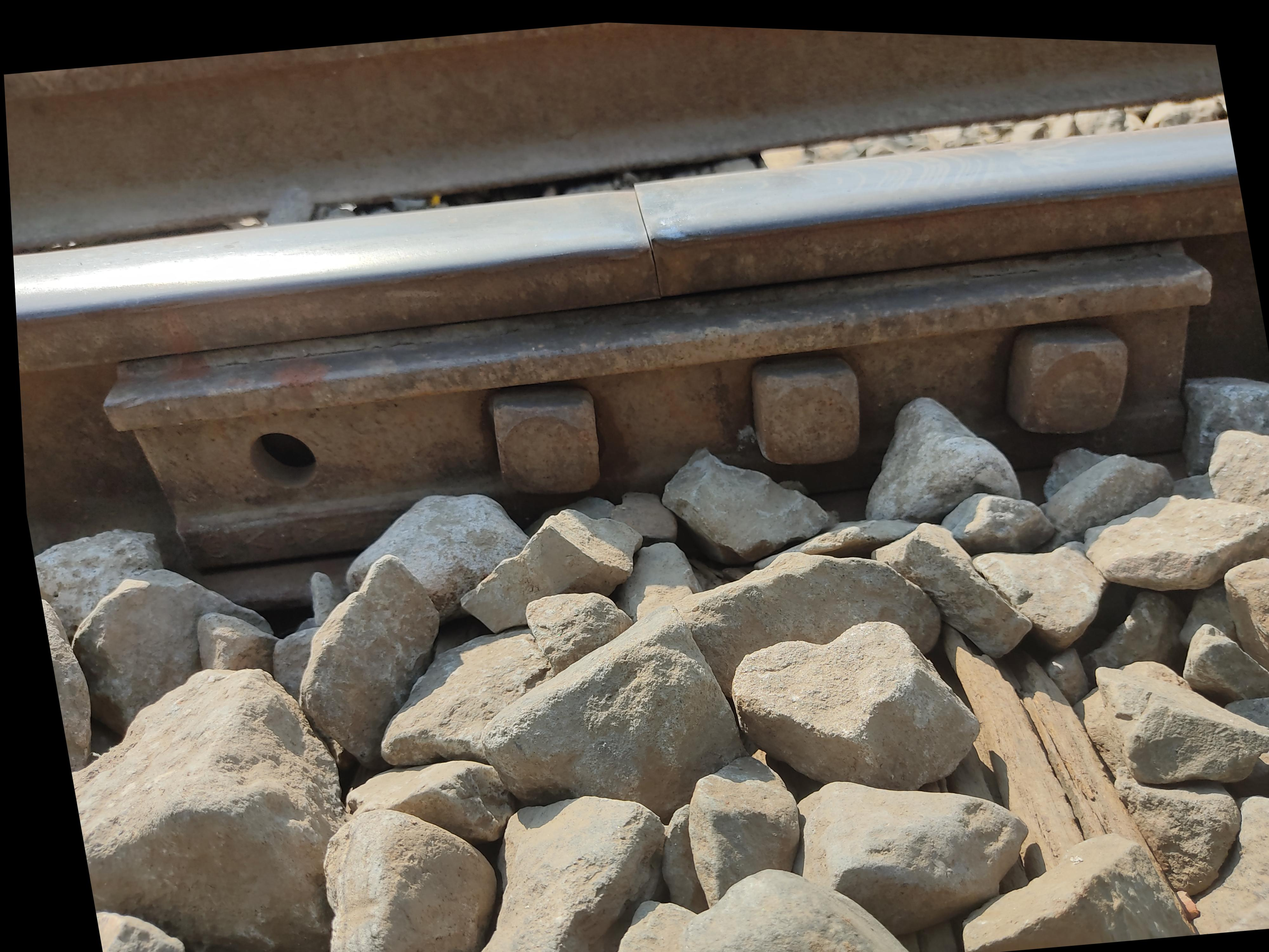person: (431, 164, 766, 452)
